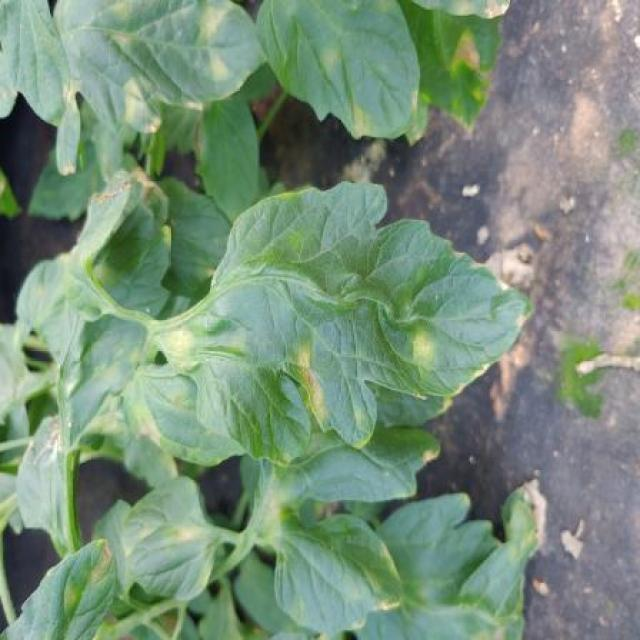Leaf Mold: (158, 181, 533, 474), (51, 0, 266, 136), (255, 0, 422, 144), (273, 511, 404, 640), (121, 474, 219, 604)
